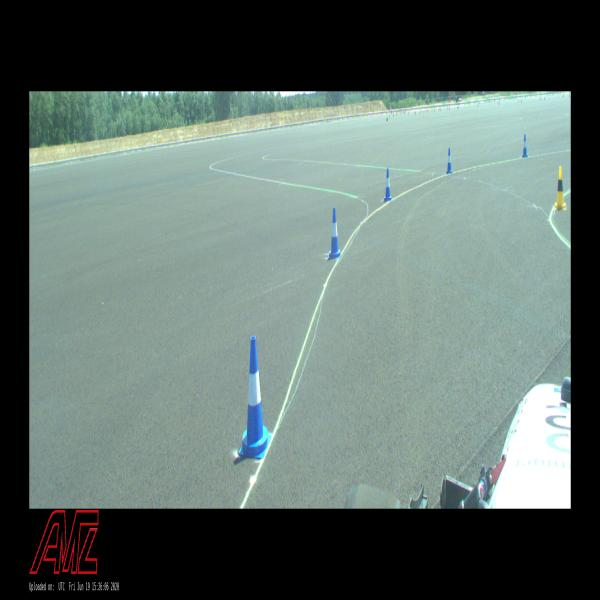blue_cone: (239, 336, 271, 458), (328, 208, 340, 258), (384, 169, 392, 202), (445, 148, 452, 174), (522, 134, 528, 157)
yellow_cone: (554, 167, 566, 210)
